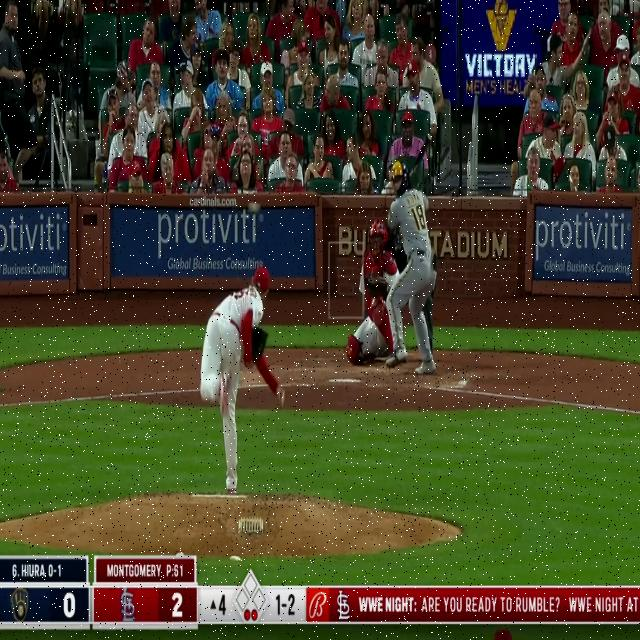baseball: (246, 199, 262, 217)
